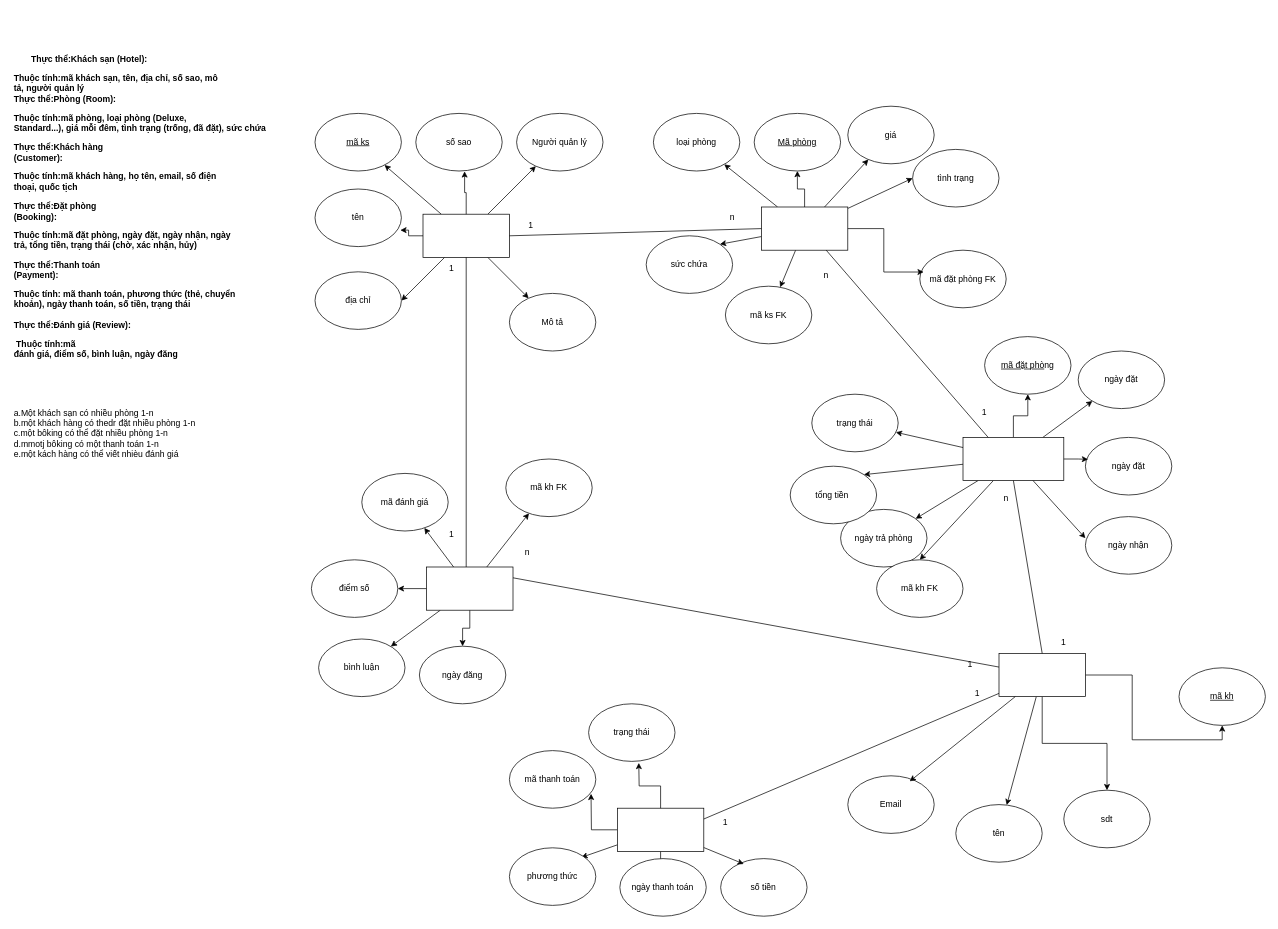
Image size: 1278x929. Some labels were removed from this diagram. The centre of each missing label's shape, as x and y in pixels:
"Khách hàng" belongs at pixel 1041 675.
"Khách sạn" belongs at pixel 465 235.
"Phòng" belongs at pixel 804 228.
"Thanh toán" belongs at pixel 660 829.
"Đánh giá" belongs at pixel 469 588.
"Đặt phòng" belongs at pixel 1013 459.
